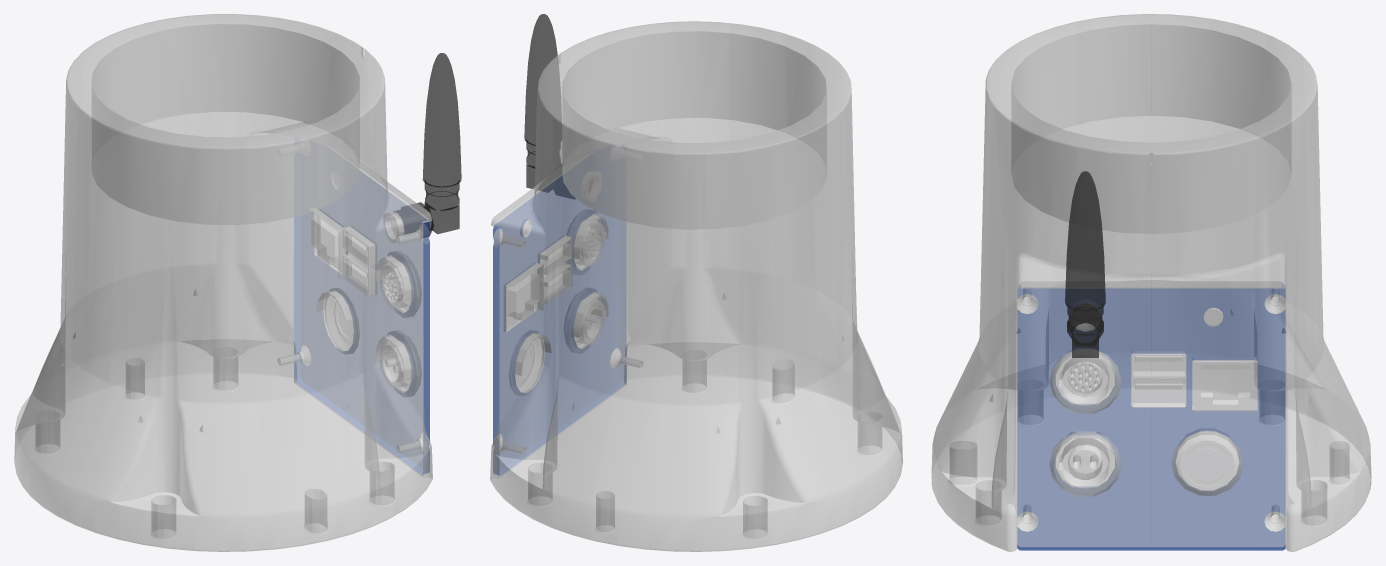
Rendered from base_link-半透明.dae.
3 renders of one model, left to right at view 1: azimuth 30°, elevation 25°; view 2: azimuth 150°, elevation 25°; view 3: azimuth 270°, elevation 25°, orthographic. The views are drawn at different scales.
Visible parts, largest first — view 1: Mesh (×3); view 2: Mesh (×3); view 3: Mesh (×3).
Boxes of the visible parts, left/top/right/bottom form: Mesh (×3): left=14, top=14, right=461, bottom=551; Mesh (×3): left=490, top=14, right=902, bottom=551; Mesh (×3): left=931, top=14, right=1371, bottom=551.
Size of the model in its own units: 116 by 110 by 111.
